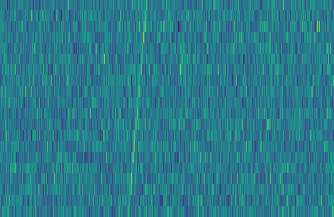signal: (123, 0, 151, 217)
